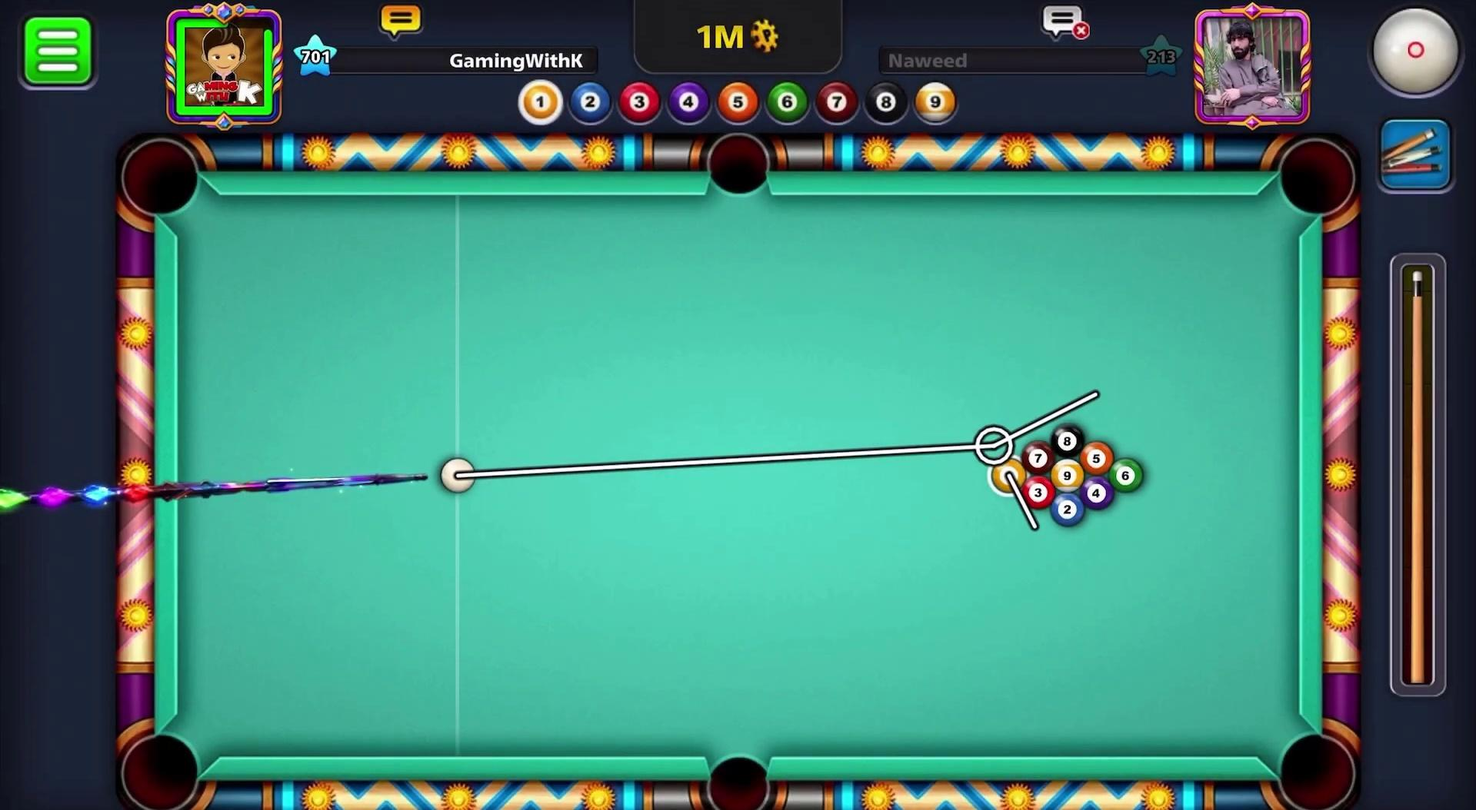Ball: (1077, 435, 1117, 477), (1048, 421, 1089, 460), (988, 459, 1027, 496), (1108, 456, 1145, 493), (1048, 491, 1084, 528), (1051, 460, 1088, 495), (1020, 438, 1052, 477), (1021, 475, 1053, 508), (1079, 477, 1111, 508)
Force: (1386, 253, 1453, 704)
Guideline: (457, 381, 1107, 535)
Hole: (107, 128, 213, 231), (1268, 128, 1366, 231), (1265, 716, 1364, 809), (111, 722, 209, 809), (685, 736, 786, 809), (700, 123, 778, 204)
Play_Area: (182, 195, 1304, 762)
Spin: (1347, 0, 1475, 112)
White: (428, 453, 478, 496)
